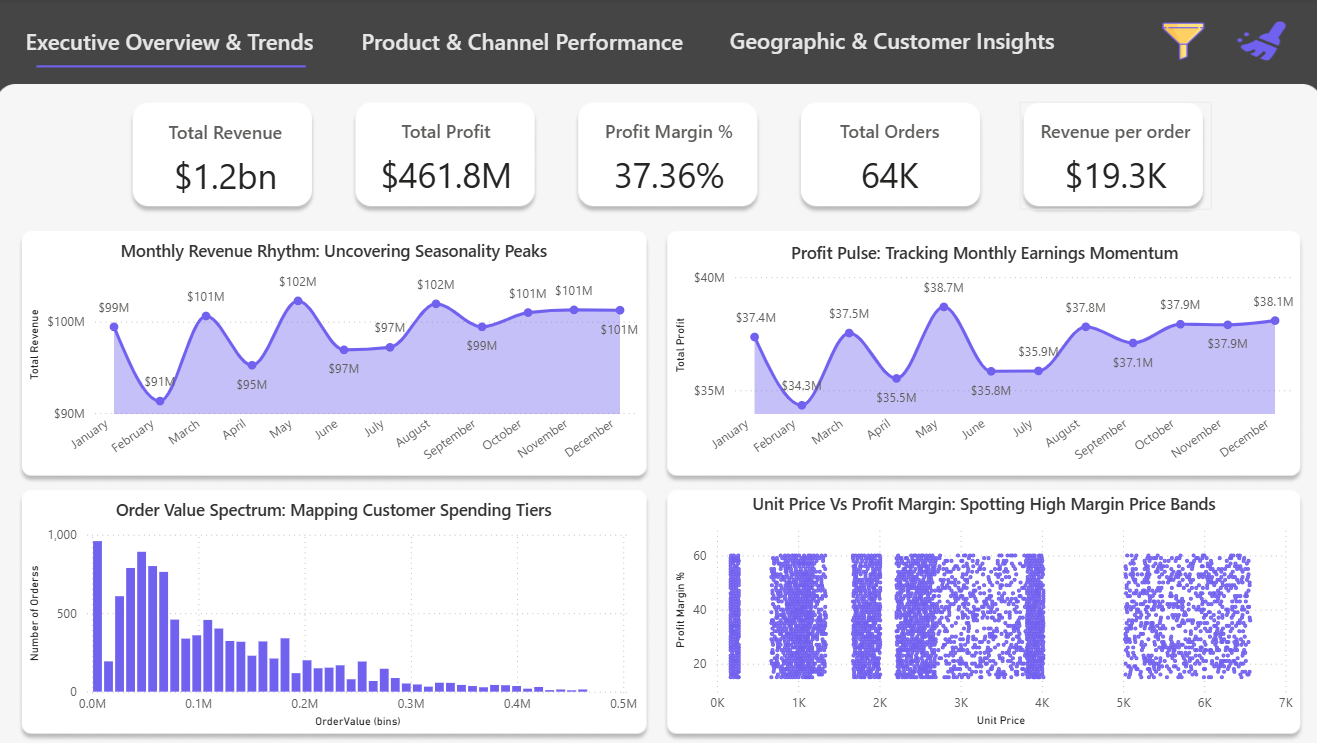

This screenshot's page, from the dashboard's own definition file:
{"tool":"powerbi","page":{"name":"Executive Overview and Trends","canvas":[1280,720],"ordinal":0},"visuals":[{"type":"cardVisual","fields":{"Data":["Measures_.Total Revenue"]},"box":[142,101,158,104],"z":0},{"type":"cardVisual","fields":{"Data":["Measures_.Total Profit"]},"box":[350,100,169.2,103.8],"z":1000},{"type":"cardVisual","fields":{"Data":["Measures_.Profit Margin %"]},"box":[552.6,100,194.9,103.8],"z":2000},{"type":"cardVisual","fields":{"Data":["Measures_.Total Orders"]},"box":[787.2,100,152.6,103.8],"z":3000},{"type":"cardVisual","fields":{"Data":["Measures_.Revenue per order"]},"box":[988.3,100,185,103.3],"z":4000},{"type":"lineChart","title":"Monthly Revenue Rhythm: Uncovering Seasonality Peaks","fields":{"Category":["Sales_data.order_month_name"],"Y":["Measures_.Total Revenue"]},"box":[26.9,233.3,598.7,235.9],"z":5000},{"type":"lineChart","title":"Profit Pulse: Tracking Monthly Earnings Momentum","fields":{"Category":["Sales_data.order_month_name"],"Y":["Measures_.Total Profit"]},"box":[650,234.6,607.7,234.6],"z":6000},{"type":"scatterChart","title":"Unit Price Vs Profit Margin: Spotting High Margin Price Bands","fields":{"X":["Sales_data.unit_price"],"Y":["Sales_data.profit_margin_pct"]},"box":[650,476.9,606.4,232.1],"z":7000},{"type":"columnChart","title":"Order Value Spectrum: Mapping Customer Spending Tiers","fields":{"Category":["Order_Value_Distribution.OrderValue (bins)"],"Y":["CountNonNull(Order_Value_Distribution.order_number)"]},"box":[26.9,482.1,598.7,226.9],"z":8000},{"type":"actionButton","box":[337.2,14.1,342.3,55.1],"z":10000},{"type":"actionButton","box":[9,14.1,317.9,55.1],"z":11000},{"type":"actionButton","box":[693.8,13.8,342.5,55],"z":12000},{"type":"actionButton","box":[1188,14,70,55],"z":14000},{"type":"actionButton","box":[1120,21,53,42],"z":14500}]}

Visuals, with their boxes in screenshot pixels (x1, y1, x2, y2), scaled from the page's 1280x720 canvas onto the 1317x743 screenshot:
cardVisual - Measures_.Total Revenue: 146:104:309:212
cardVisual - Measures_.Total Profit: 360:103:534:210
cardVisual - Measures_.Profit Margin %: 569:103:769:210
cardVisual - Measures_.Total Orders: 810:103:967:210
cardVisual - Measures_.Revenue per order: 1017:103:1207:210
"Monthly Revenue Rhythm: Uncovering Seasonality Peaks" lineChart: 28:241:644:484
"Profit Pulse: Tracking Monthly Earnings Momentum" lineChart: 669:242:1294:484
"Unit Price Vs Profit Margin: Spotting High Margin Price Bands" scatterChart: 669:492:1293:732
"Order Value Spectrum: Mapping Customer Spending Tiers" columnChart: 28:498:644:732
actionButton: 347:15:699:71
actionButton: 9:15:336:71
actionButton: 714:14:1066:71
actionButton: 1222:14:1294:71
actionButton: 1152:22:1207:65
